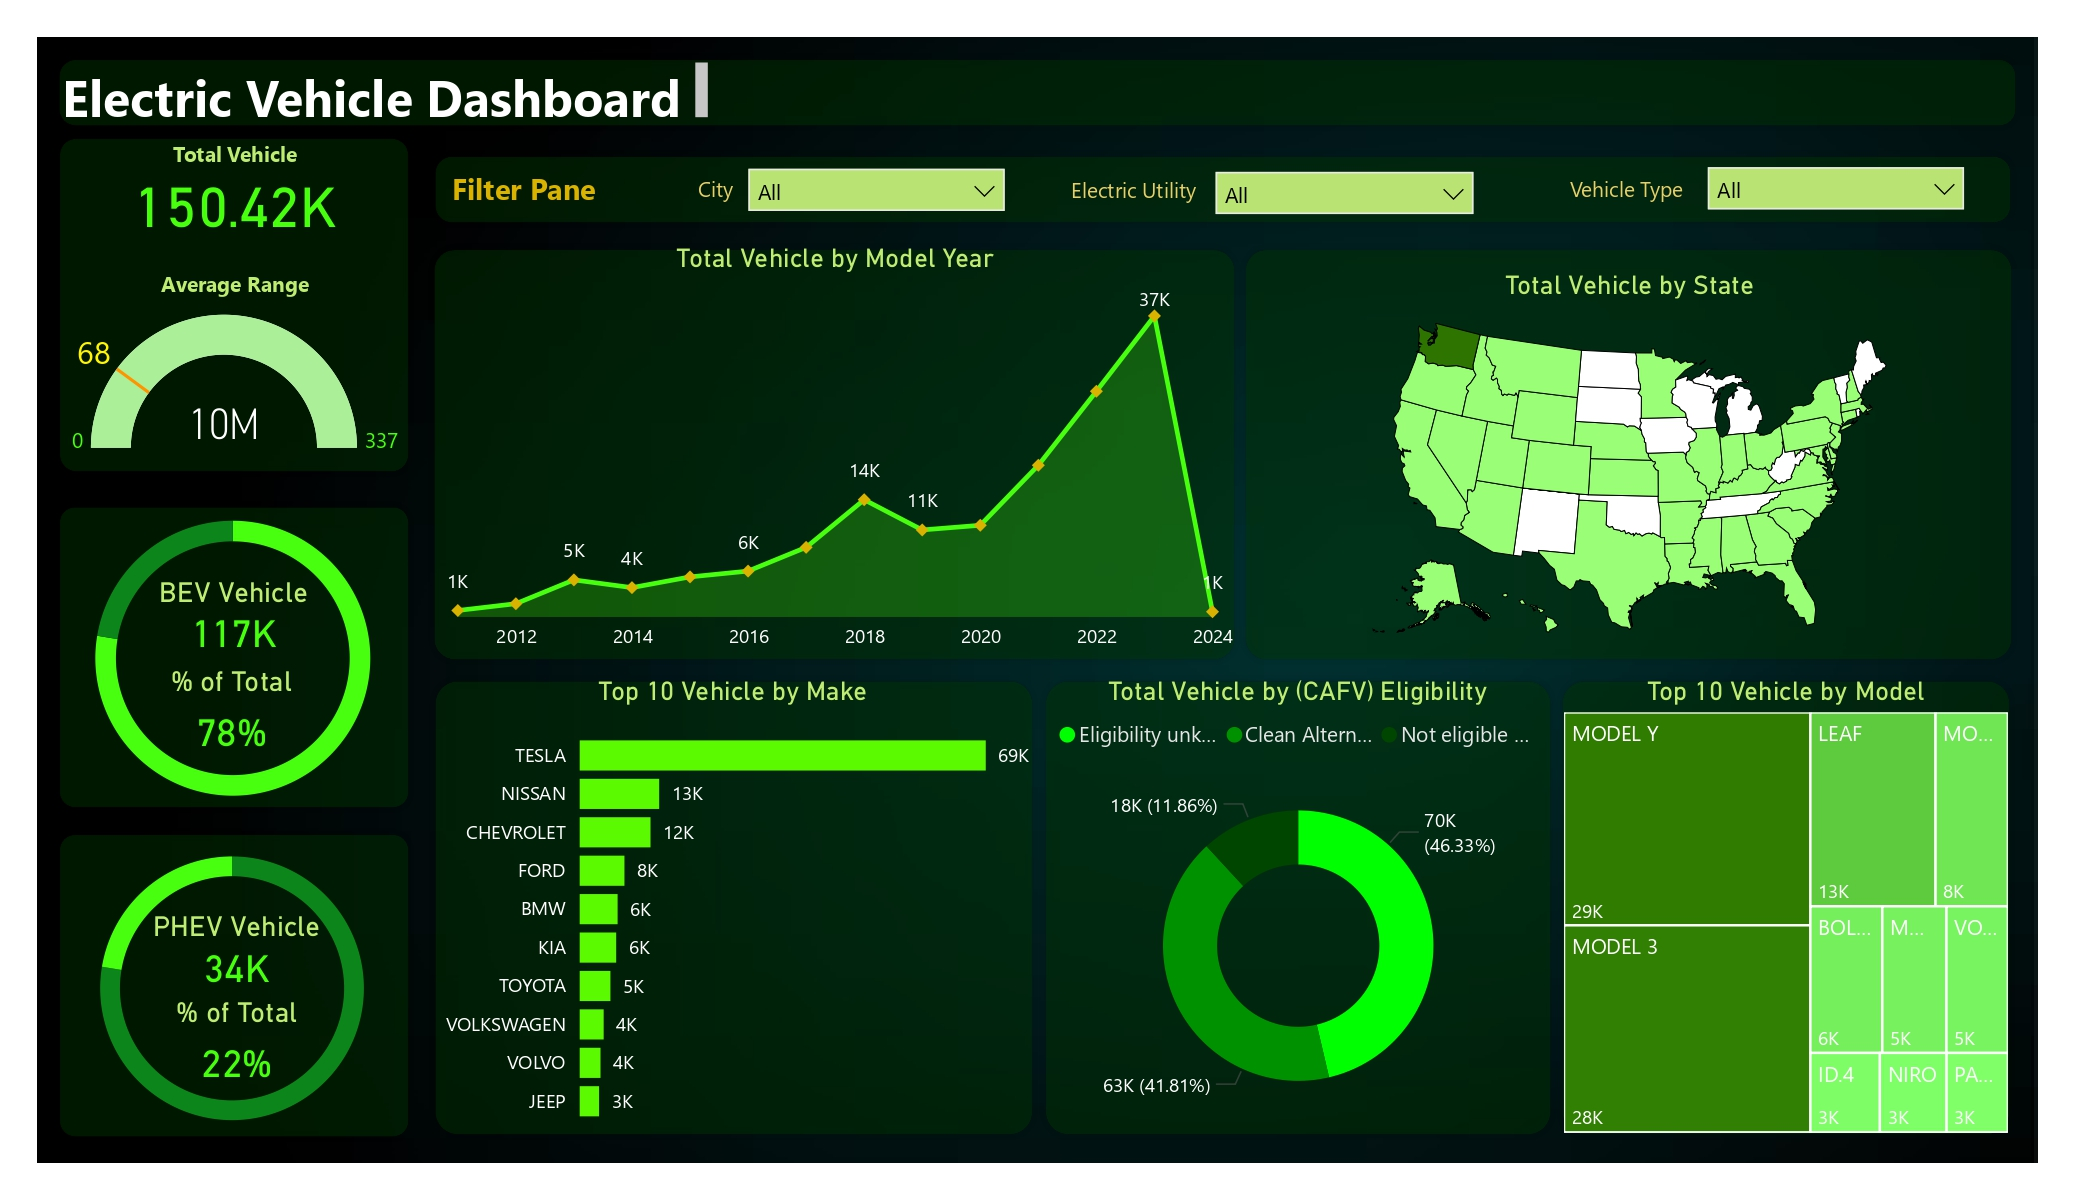

The page's visual inventory and layout, read from the dashboard file:
{"tool":"powerbi","page":{"name":"Electric Vehicle Dashboard","canvas":[1280,720],"ordinal":0},"visuals":[{"type":"shape","box":[250.7,67.3,1016.6,55],"z":0},{"type":"shape","box":[10,10,1260,50],"z":1000},{"type":"textbox","box":[10.7,10.7,423.4,48.9],"z":2000},{"type":"shape","box":[10.4,60.7,230.5,221.8],"z":3000},{"type":"card","title":"Total Vehicle","fields":{"Values":["Electric_Vehicle_Population_Data.Total Vehicle"]},"box":[10.7,65.7,230.8,65.7],"z":4000},{"type":"gauge","title":"Average Range","fields":{"Y":["Sum(Electric_Vehicle_Population_Data.Electric Range)"],"MaxValue":["Electric_Vehicle_Population_Data.Maximum Range"],"MinValue":["Electric_Vehicle_Population_Data.Minimum Range"],"TargetValue":["Electric_Vehicle_Population_Data.Average Range Interger"]},"box":[12.1,149,228.7,133.4],"z":5000},{"type":"shape","box":[10,505.8,230.8,200.8],"z":6000},{"type":"shape","box":[10,296.7,230.8,200.8],"z":7000},{"type":"donutChart","fields":{"Category":["Electric_Vehicle_Population_Data.Electric Vehicle Type"],"Y":["Electric_Vehicle_Population_Data.Total Vehicle"]},"box":[0,281.8,250,230.5],"z":8000},{"type":"card","title":"BEV Vehicle","fields":{"Values":["Electric_Vehicle_Population_Data.BEV Vehicle"]},"box":[10.4,344,230.5,53.7],"z":9000},{"type":"card","title":"% of Total","fields":{"Values":["Electric_Vehicle_Population_Data.% of BEV"]},"box":[8.7,401.2,230.5,65.8],"z":10000},{"type":"donutChart","fields":{"Category":["Electric_Vehicle_Population_Data.Electric Vehicle Type"],"Y":["Electric_Vehicle_Population_Data.Total Vehicle"]},"box":[0,498,249,221],"z":11000},{"type":"card","title":"% of Total","fields":{"Values":["Electric_Vehicle_Population_Data.% of PHEV"]},"box":[12.1,613.4,230.5,65.8],"z":12000},{"type":"card","title":"PHEV Vehicle","fields":{"Values":["Electric_Vehicle_Population_Data.PHEV Vehicle"]},"box":[12.1,558,230.5,53.7],"z":13000},{"type":"shape","box":[249.5,131.7,520,270.3],"z":14000},{"type":"areaChart","fields":{"Category":["Electric_Vehicle_Population_Data.Model Year"],"Y":["Electric_Vehicle_Population_Data.Total Vehicle"]},"box":[250.7,131.5,519.7,270.6],"z":15000},{"type":"shape","box":[769.4,131.7,497.3,270.3],"z":16000},{"type":"shapeMap","fields":{"Category":["Electric_Vehicle_Population_Data.State"],"Value":["Electric_Vehicle_Population_Data.Total Vehicle"]},"box":[768.9,148.3,499.9,249.2],"z":17000},{"type":"shape","box":[250.7,408.2,389.8,298.1],"z":18000},{"type":"clusteredBarChart","title":"Top 10 Vehicle by Make","fields":{"Category":["Electric_Vehicle_Population_Data.Make"],"Y":["Electric_Vehicle_Population_Data.Total Vehicle"]},"box":[249.2,408.2,391.3,298.1],"z":19000},{"type":"shape","box":[640.5,408.2,331.7,298.1],"z":20000},{"type":"donutChart","title":"Total Vehicle by (CAFV) Eligibility","fields":{"Category":["Electric_Vehicle_Population_Data.Clean Alternative Fuel Vehicle (CAFV) Eligibility"],"Y":["Electric_Vehicle_Population_Data.Total Vehicle"]},"box":[640.5,408.2,331.7,298.1],"z":21000},{"type":"shape","box":[972.2,408.2,293.5,298.1],"z":22000},{"type":"treemap","title":"Top 10 Vehicle by Model","fields":{"Group":["Electric_Vehicle_Population_Data.Model"],"Values":["Electric_Vehicle_Population_Data.Total Vehicle"]},"box":[972.2,408.2,293.5,298.1],"z":23000},{"type":"textbox","box":[260,79.4,111.1,36.7],"z":24000},{"type":"slicer","fields":{"Values":["Electric_Vehicle_Population_Data.City"]},"box":[445,73.9,184.4,39.4],"z":25000},{"type":"textbox","box":[411.7,82.8,43.9,29.4],"z":26000},{"type":"slicer","fields":{"Values":["Electric_Vehicle_Population_Data.Electric Utility"]},"box":[744.4,75.6,184.4,38.9],"z":27000},{"type":"textbox","box":[644.4,84.4,114.4,28.9],"z":28000},{"type":"slicer","fields":{"Values":["Electric_Vehicle_Population_Data.Electric Vehicle Type"]},"box":[1058.9,73.3,184.4,38.9],"z":29000},{"type":"textbox","box":[960,82.5,113.8,28.8],"z":30000}]}

Visuals, with their boxes in screenshot pixels (x1, y1, x2, y2):
shape: bbox=[429, 143, 2018, 229]
shape: bbox=[53, 53, 2022, 131]
textbox: bbox=[54, 54, 716, 131]
shape: bbox=[54, 132, 414, 479]
"Total Vehicle" card: bbox=[54, 140, 415, 243]
"Average Range" gauge: bbox=[56, 270, 414, 479]
shape: bbox=[53, 828, 414, 1142]
shape: bbox=[53, 501, 414, 815]
donutChart - Electric_Vehicle_Population_Data.Electric Vehicle Type x Electric_Vehicle_Population_Data.Total Vehicle: bbox=[38, 478, 428, 838]
"BEV Vehicle" card: bbox=[54, 575, 414, 659]
"% of Total" card: bbox=[51, 664, 411, 767]
donutChart - Electric_Vehicle_Population_Data.Electric Vehicle Type x Electric_Vehicle_Population_Data.Total Vehicle: bbox=[38, 816, 427, 1161]
"% of Total" card: bbox=[56, 996, 417, 1099]
"PHEV Vehicle" card: bbox=[56, 909, 417, 993]
shape: bbox=[427, 243, 1240, 666]
areaChart - Electric_Vehicle_Population_Data.Model Year x Electric_Vehicle_Population_Data.Total Vehicle: bbox=[429, 243, 1241, 666]
shape: bbox=[1240, 243, 2017, 666]
shapeMap - Electric_Vehicle_Population_Data.State x Electric_Vehicle_Population_Data.Total Vehicle: bbox=[1239, 269, 2020, 659]
shape: bbox=[429, 675, 1038, 1141]
"Top 10 Vehicle by Make" clusteredBarChart: bbox=[427, 675, 1038, 1141]
shape: bbox=[1038, 675, 1557, 1141]
"Total Vehicle by (CAFV) Eligibility" donutChart: bbox=[1038, 675, 1557, 1141]
shape: bbox=[1557, 675, 2015, 1141]
"Top 10 Vehicle by Model" treemap: bbox=[1557, 675, 2015, 1141]
textbox: bbox=[444, 162, 617, 219]
slicer - Electric_Vehicle_Population_Data.City: bbox=[733, 153, 1021, 215]
textbox: bbox=[681, 167, 749, 213]
slicer - Electric_Vehicle_Population_Data.Electric Utility: bbox=[1201, 156, 1489, 216]
textbox: bbox=[1044, 169, 1223, 215]
slicer - Electric_Vehicle_Population_Data.Electric Vehicle Type: bbox=[1692, 152, 1980, 213]
textbox: bbox=[1538, 166, 1715, 211]
